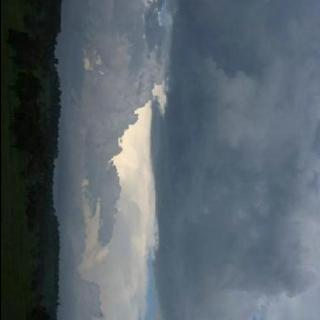Stratus: (47, 0, 320, 320)
